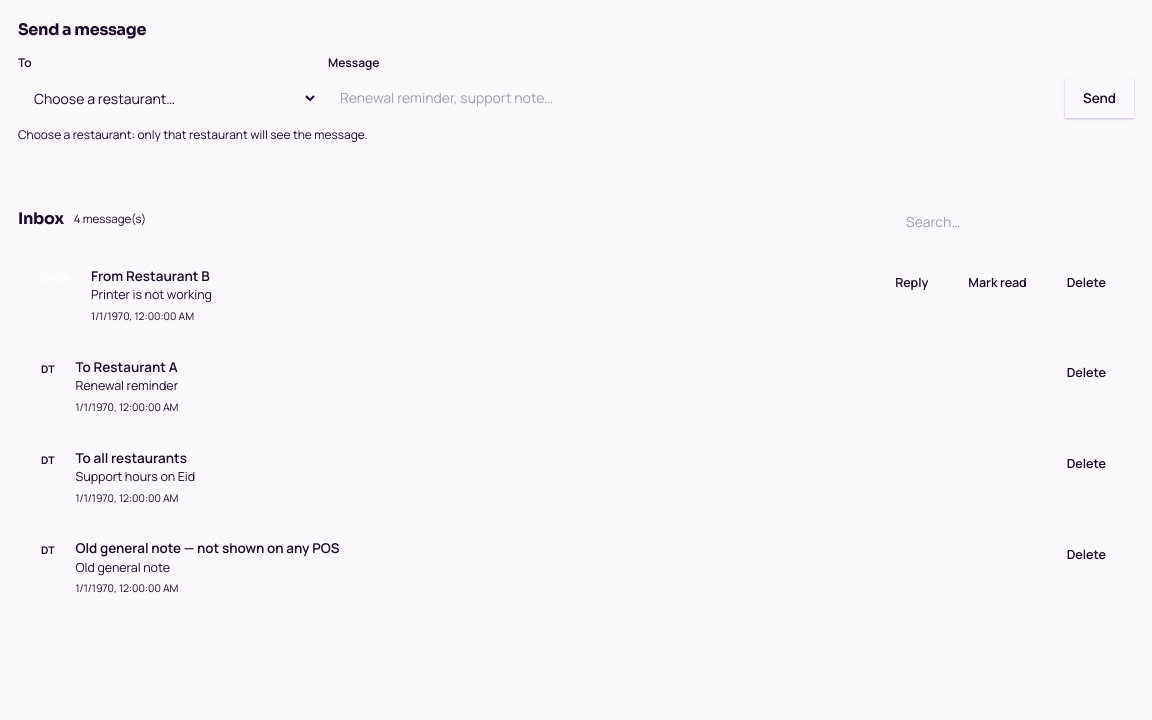
it: Super Admin → Support › "All restaurants" is a separate choice and asks first; declining sends nothing
Later steps or results of the test are not shown.
Select "All restaurants (announcement)" in the dropdown labelled "To" at (168, 98), box [18,78,318,118]
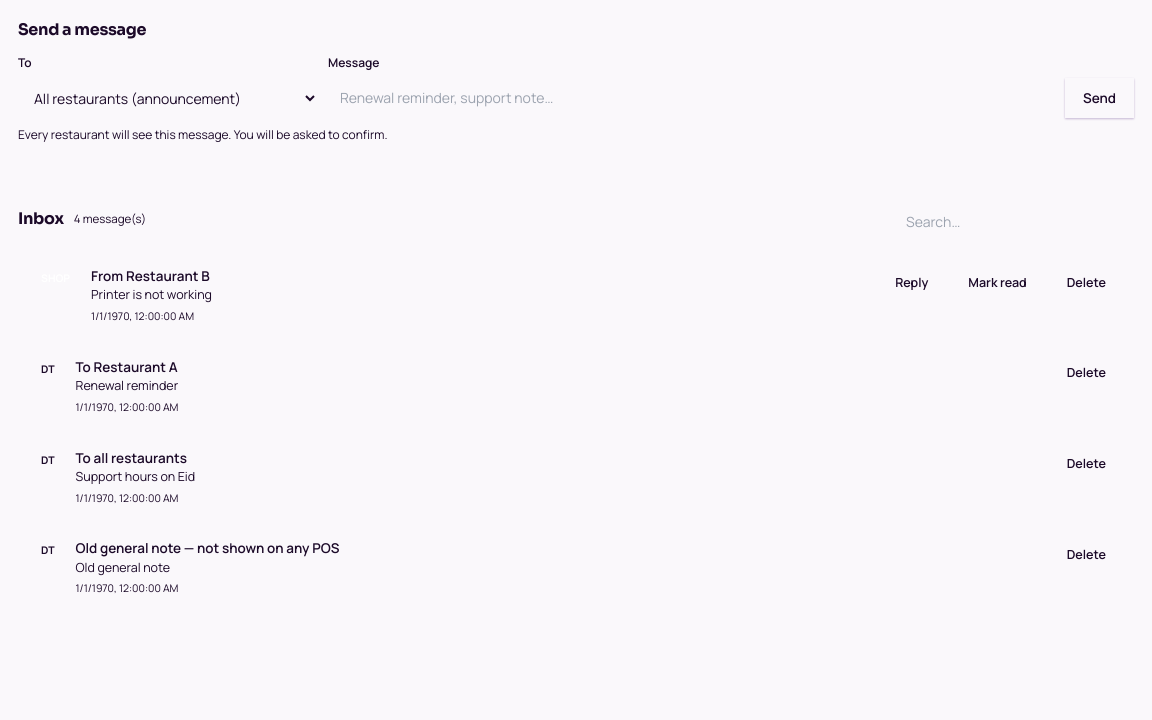
Type "Support hours on Eid" into the field labelled "Message" at (692, 98), box [328,78,1055,118]
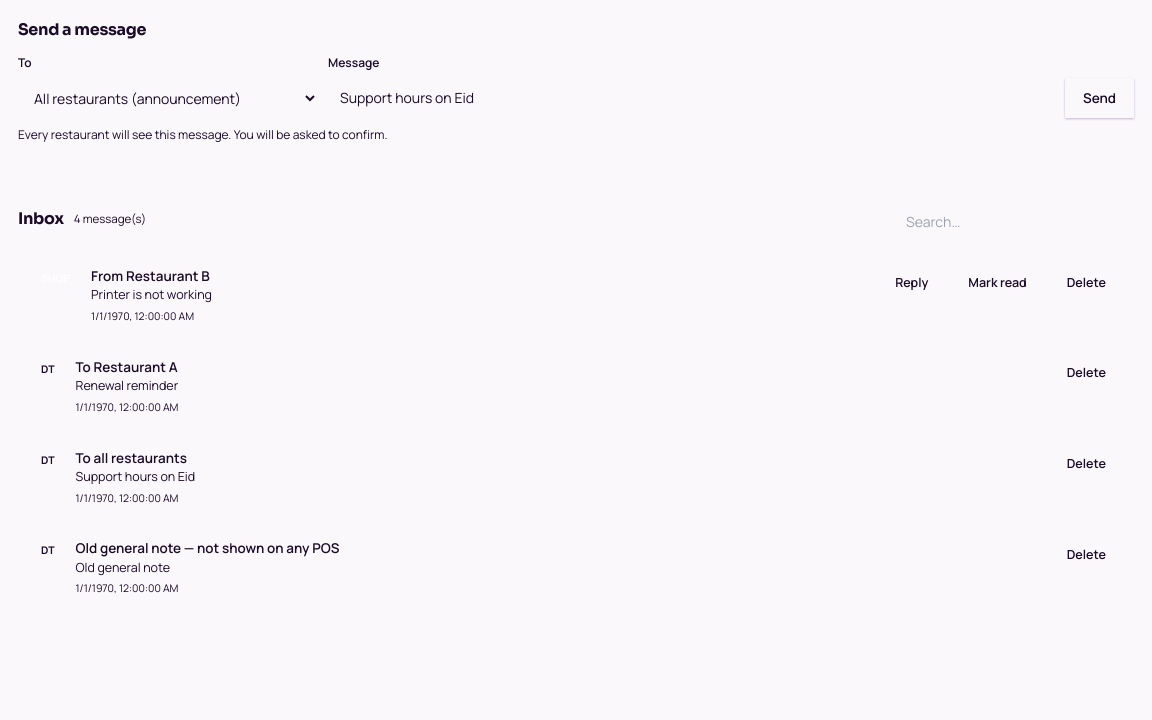
Click the button "Send" at (1100, 98), box [1065,78,1134,118]
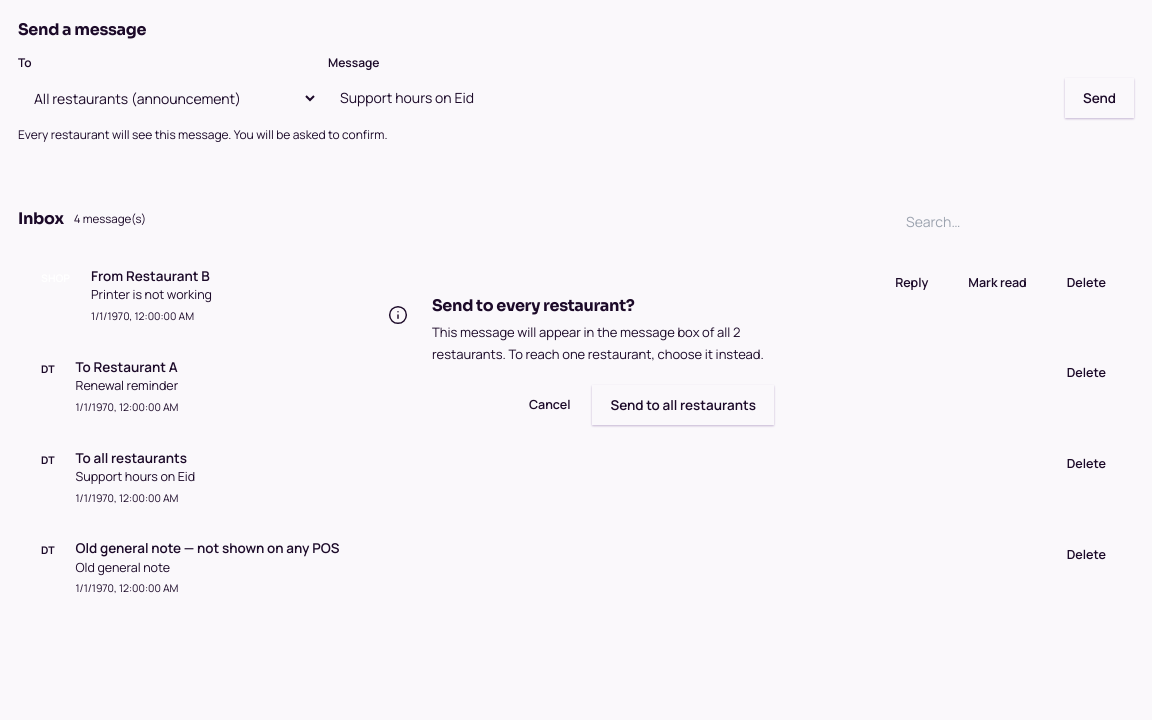
expect the heading "Send to every restaurant?" is shown: met, box [432,295,634,316]
